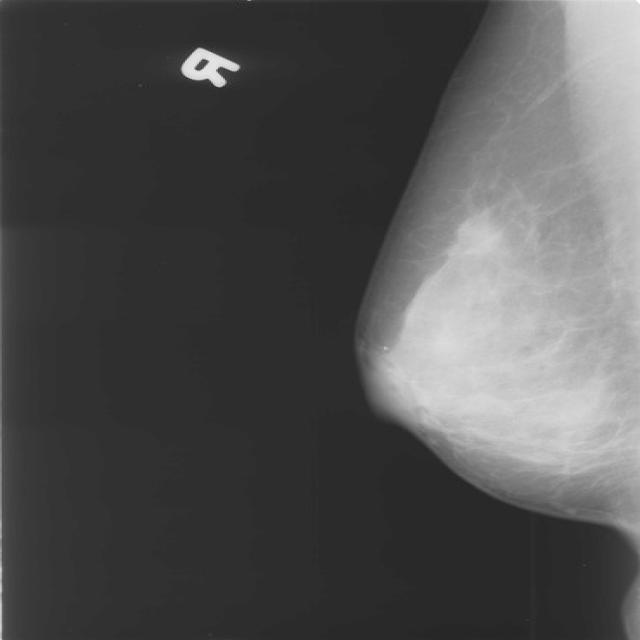tumour: (448, 213, 502, 256)
